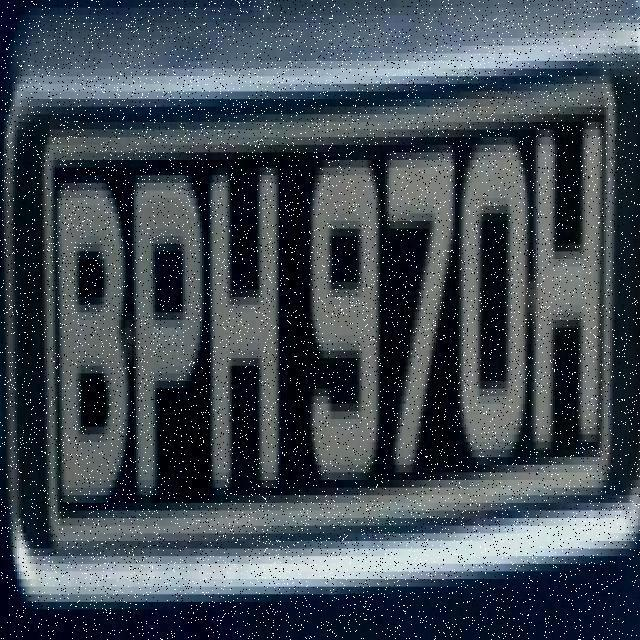LicensePlate: (0, 50, 640, 625)
